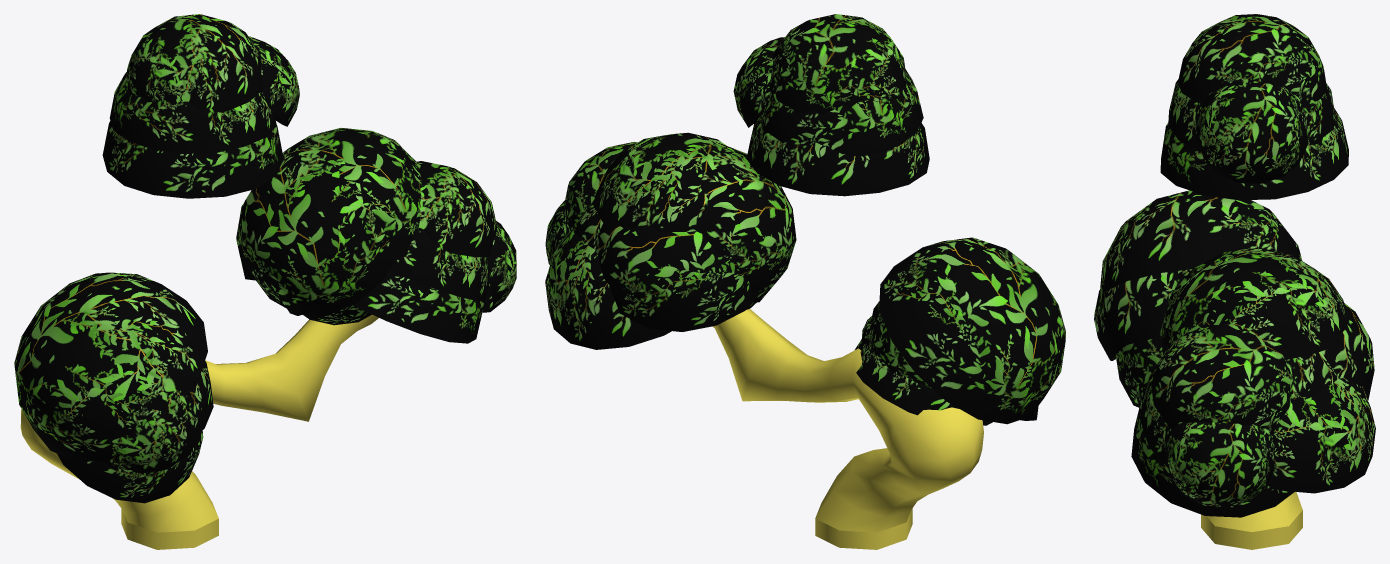
Rendered from 4_Arbol_Hojas_Raiz_Color.fbx.
The picture shows the model from 3 angles, left to right: view 1: azimuth 30°, elevation 25°; view 2: azimuth 150°, elevation 25°; view 3: azimuth 270°, elevation 25°; orthographic projection. The views are drawn at different scales.
Parts seen in each view (by area): view 1: 4_Arbol_Hojas_Raiz_Color; view 2: 4_Arbol_Hojas_Raiz_Color; view 3: 4_Arbol_Hojas_Raiz_Color.
Boxes of the visible parts, bbox=[...] form: 4_Arbol_Hojas_Raiz_Color: bbox=[14, 14, 516, 549]; 4_Arbol_Hojas_Raiz_Color: bbox=[545, 14, 1065, 549]; 4_Arbol_Hojas_Raiz_Color: bbox=[1094, 14, 1375, 549].
Size of the model in its own units: 768 by 753 by 370.
